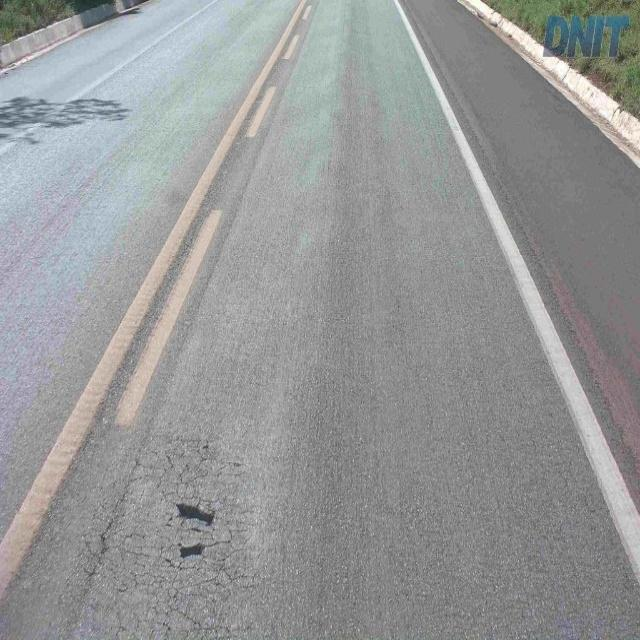pothole: (172, 486, 217, 572)
